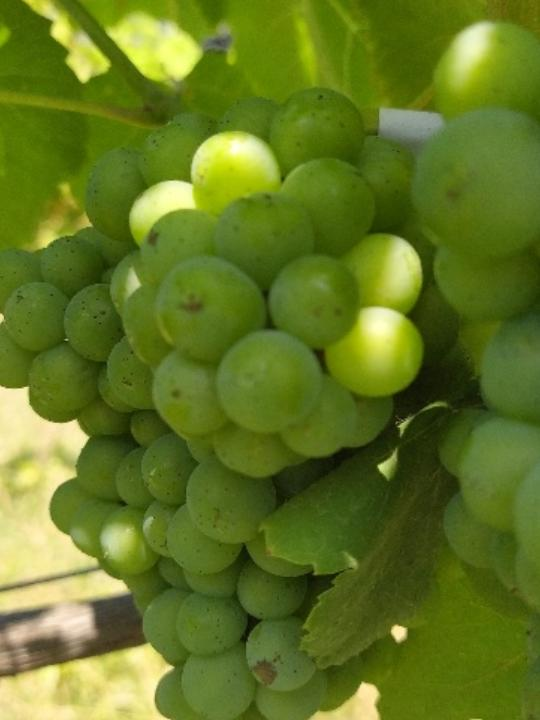grape: (0, 85, 440, 720)
